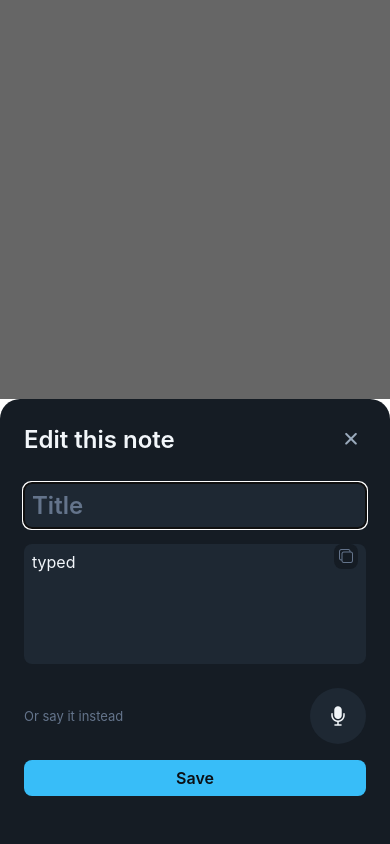
copying a note › says it copied, since nothing else on screen changes
What coordinates should you click on to do the following:
click the button named "Copy this note"
I would click on:
 (346, 556)
Its box is [334, 544, 358, 569].
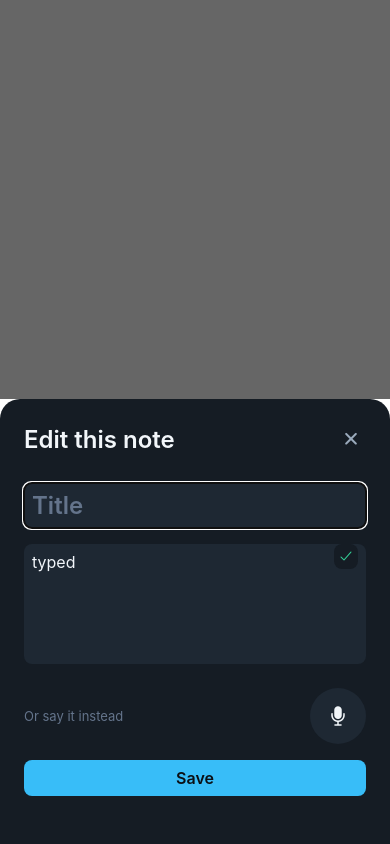
Now the button named "Copied" is shown, box [334, 544, 358, 569]
